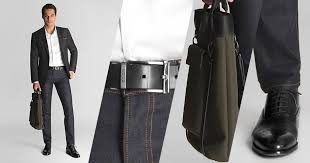F_M_suit jacket: (26, 22, 81, 87)
F_belt: (99, 57, 190, 99), (41, 61, 67, 74)
F_dress pants: (35, 70, 78, 147)
